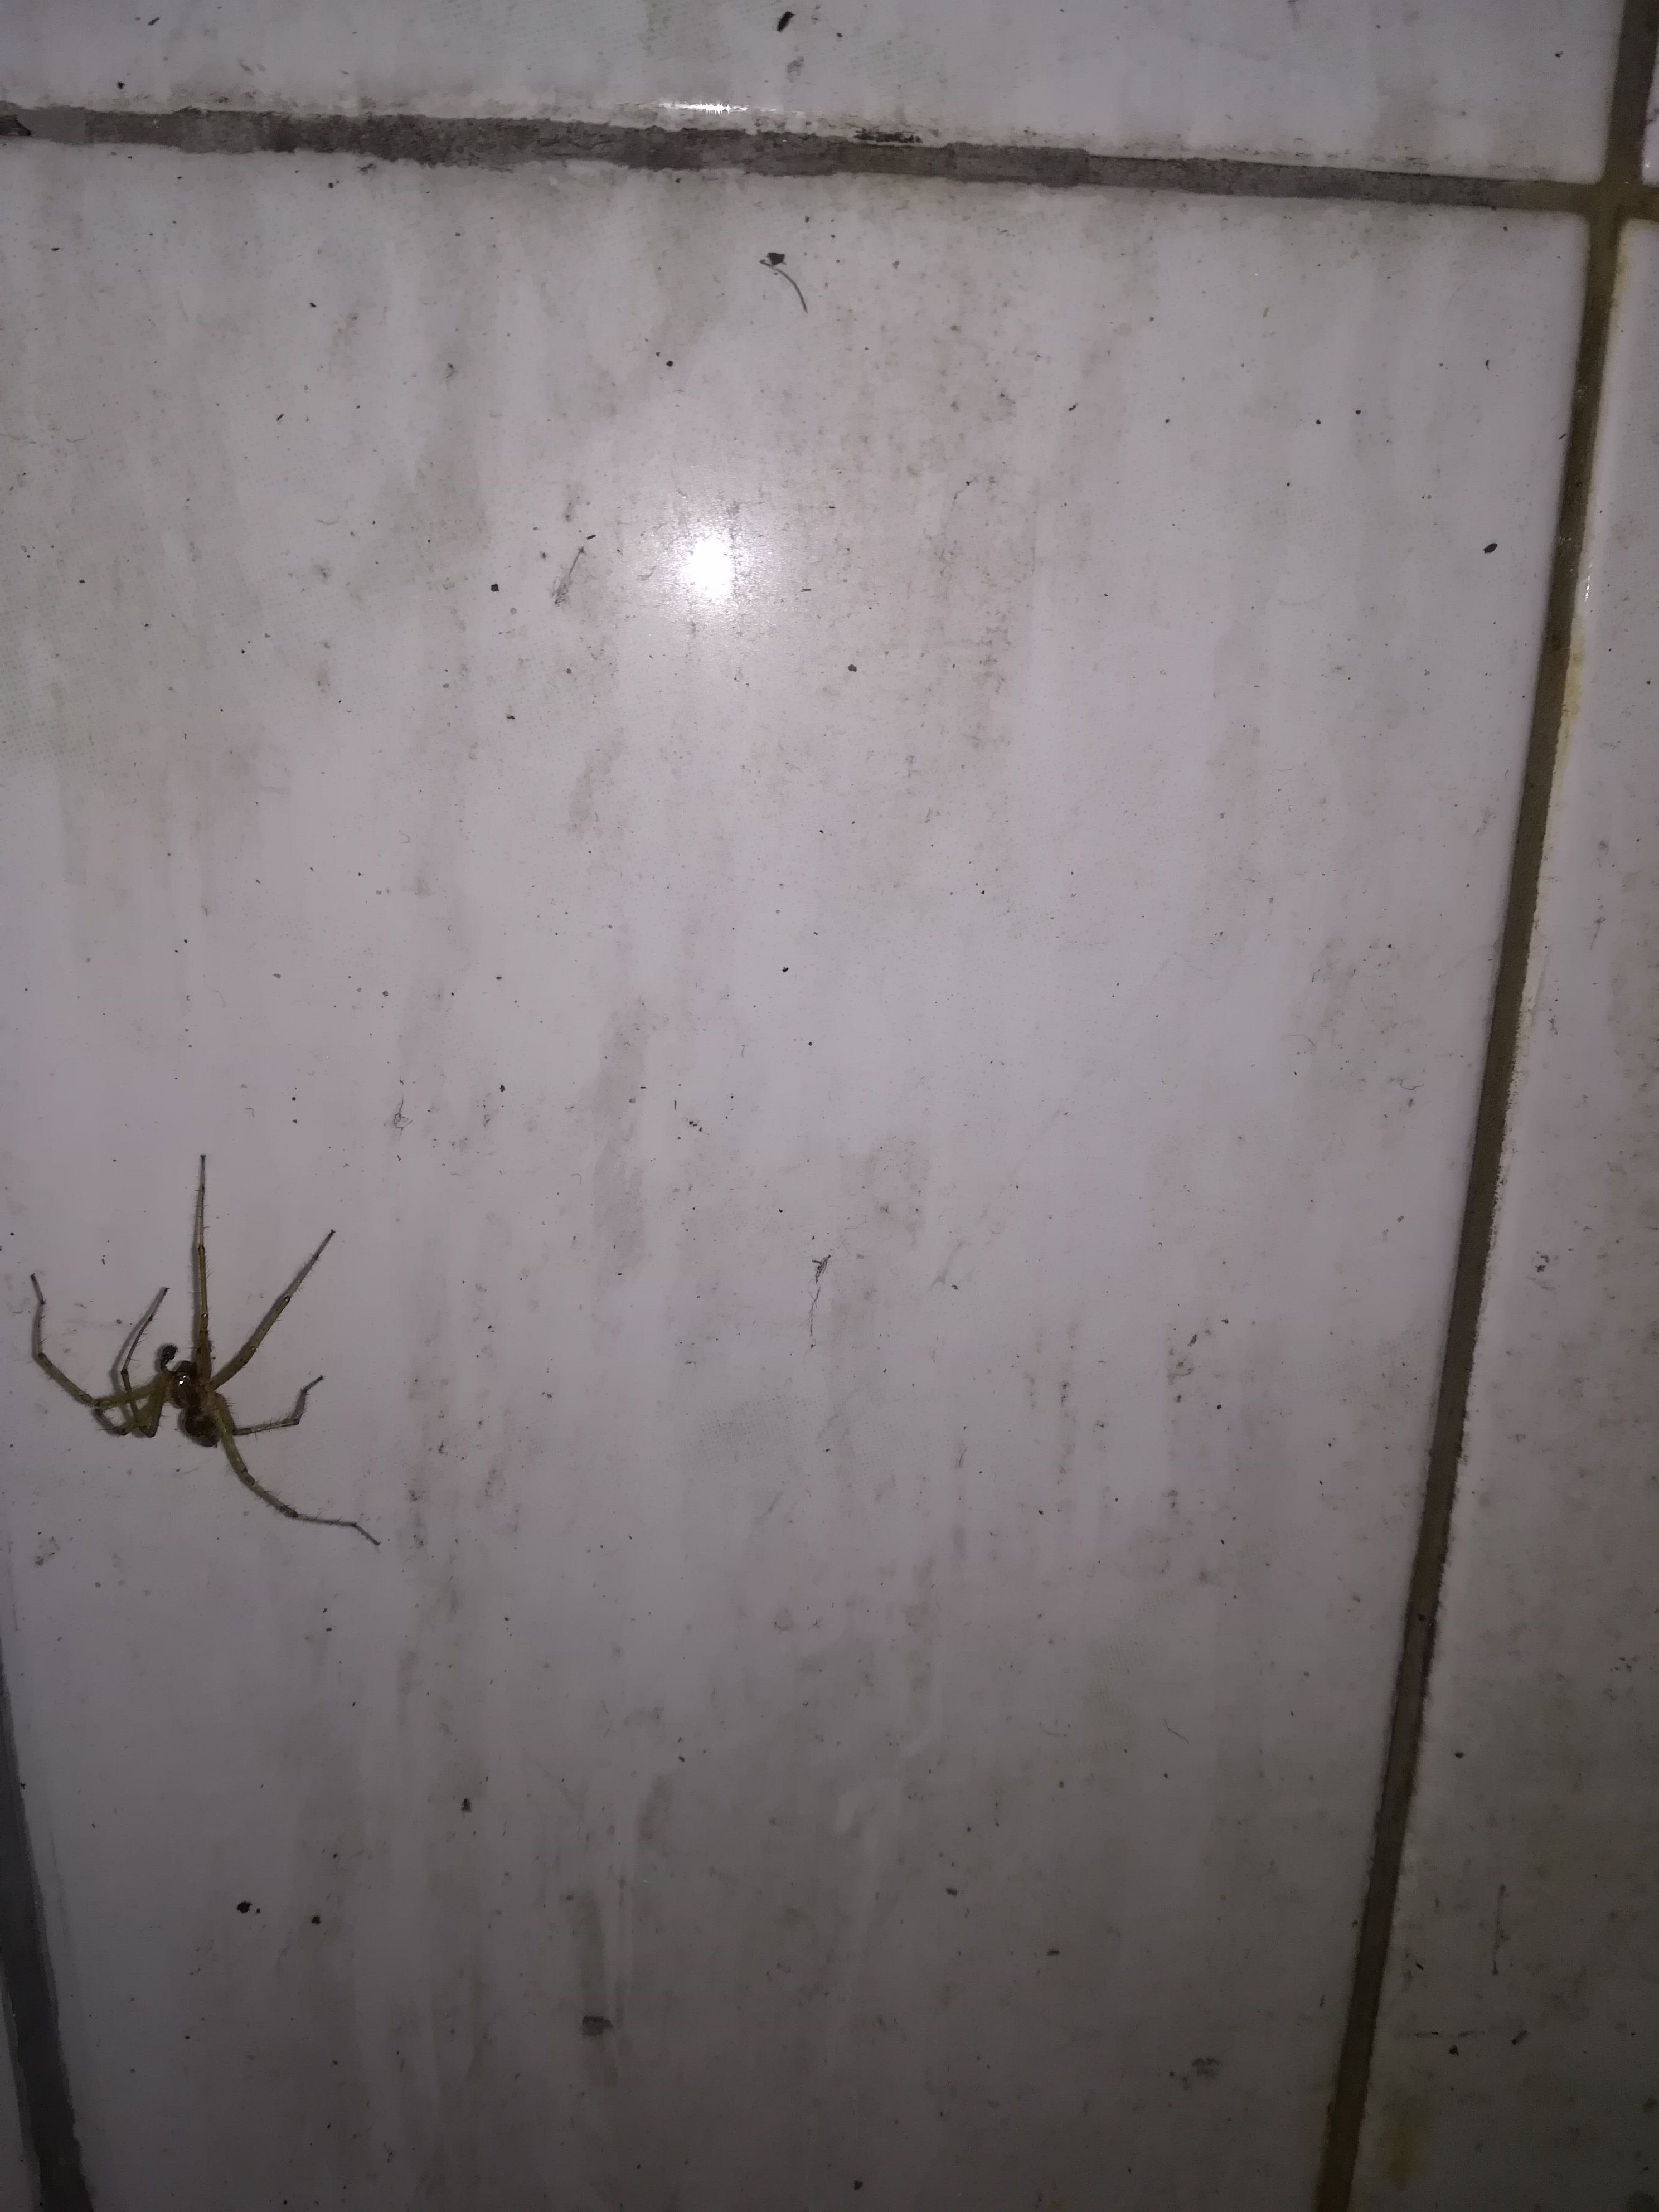spider: (17, 1113, 397, 1581)
